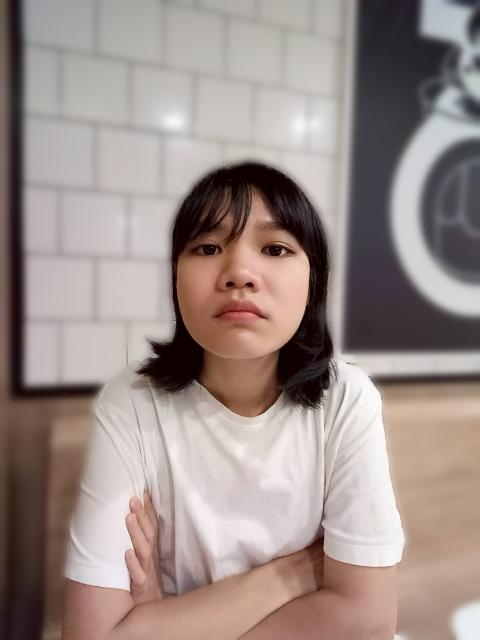fokus: (177, 191, 311, 361)
